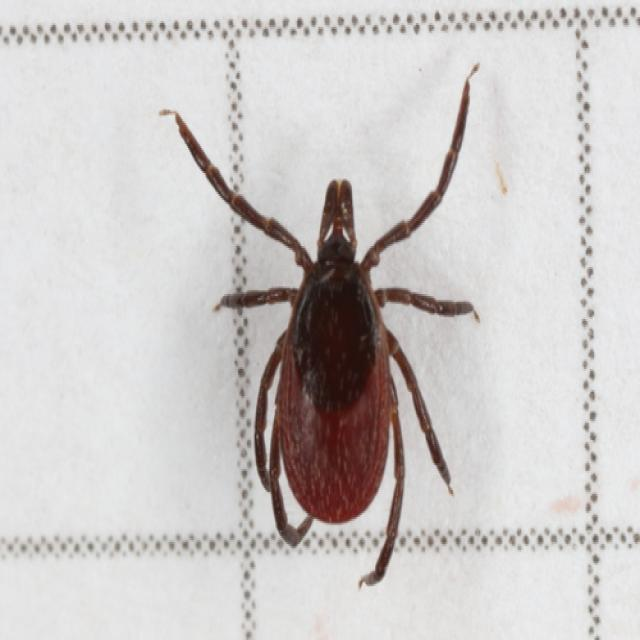Ixodes Ricinus-F: (175, 88, 479, 586)
